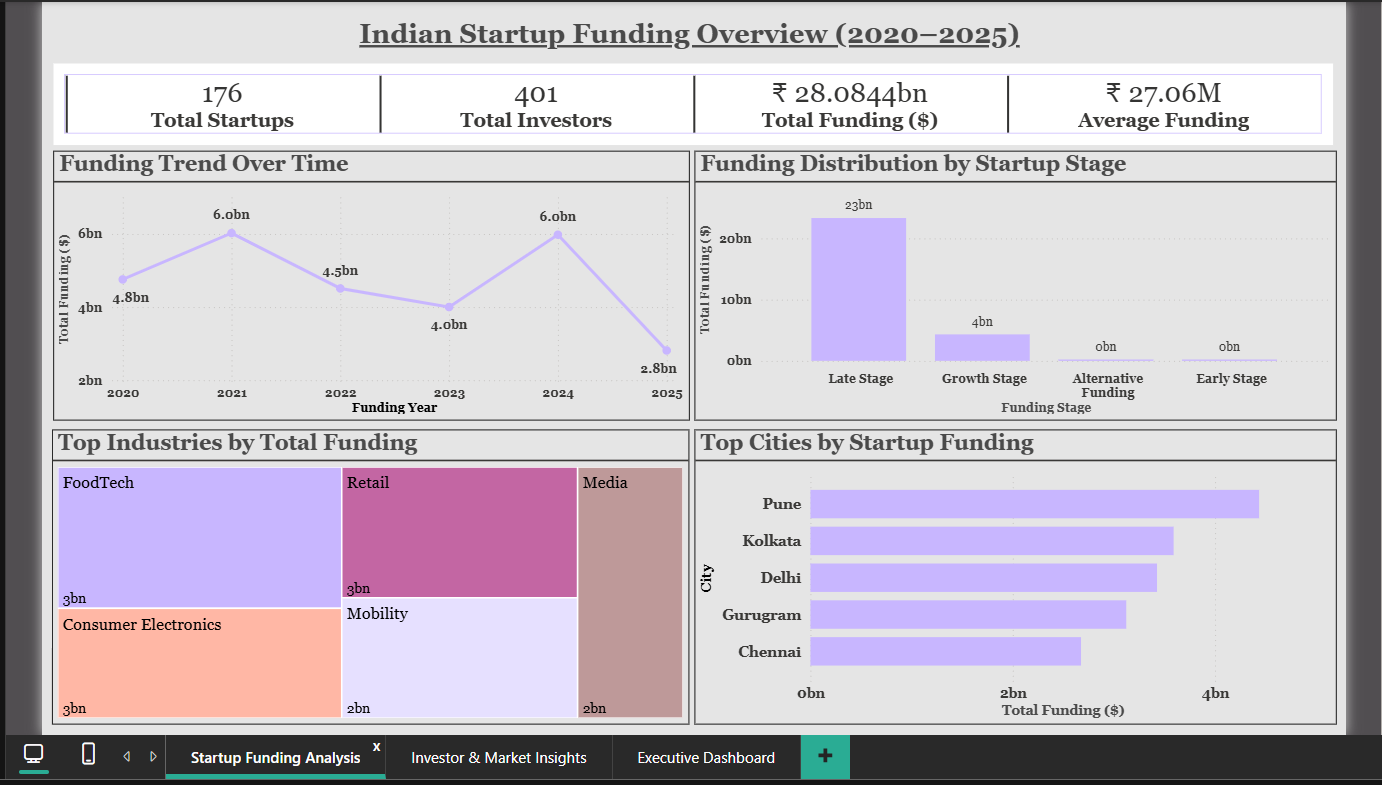

This screenshot's page, from the dashboard's own definition file:
{"tool":"powerbi","page":{"name":"Startup Funding Analysis","canvas":[1280,720],"ordinal":0},"visuals":[{"type":"cardVisual","fields":{"Data":["indian_startup_funding(2020-2025).Total Startups","indian_startup_funding(2020-2025).Total Investors","indian_startup_funding(2020-2025).Total Funding","indian_startup_funding(2020-2025).Average Funding"]},"box":[4.9,54,1271.2,92],"z":0},{"type":"lineChart","title":"Funding Trend Over Time","fields":{"Y":["indian_startup_funding(2020-2025).Total Funding"],"Category":["indian_startup_funding(2020-2025).Funding Year"]},"box":[11,146,624.5,265],"z":1000},{"type":"treemap","title":"Top Industries by Total Funding","fields":{"Group":["indian_startup_funding(2020-2025).Industry"],"Values":["indian_startup_funding(2020-2025).Total Funding"]},"box":[9.8,419.6,625.8,289.6],"z":2000},{"type":"clusteredBarChart","title":"Top Cities by Startup Funding","fields":{"Category":["indian_startup_funding(2020-2025).City"],"Y":["indian_startup_funding(2020-2025).Total Funding"]},"box":[640.5,419.6,630.7,289.6],"z":3000},{"type":"columnChart","title":"Funding Distribution by Startup Stage","fields":{"Category":["indian_startup_funding(2020-2025).Funding Stage"],"Y":["indian_startup_funding(2020-2025).Total Funding"]},"box":[640.5,146,630.7,265],"z":4000},{"type":"textbox","box":[99.4,11,1072.4,42.9],"z":5000}]}

Visuals, with their boxes on the page's 1280x720 design canvas (x1, y1, x2, y2). These are canvas units, not pixel positions in the 1382x785 screenshot, which may show the page scaled, cropped or inside an application window:
cardVisual - indian_startup_funding(2020-2025).Total Startups x indian_startup_funding(2020-2025).Total Investors: 5:54:1276:146
"Funding Trend Over Time" lineChart: 11:146:636:411
"Top Industries by Total Funding" treemap: 10:420:636:709
"Top Cities by Startup Funding" clusteredBarChart: 640:420:1271:709
"Funding Distribution by Startup Stage" columnChart: 640:146:1271:411
textbox: 99:11:1172:54
